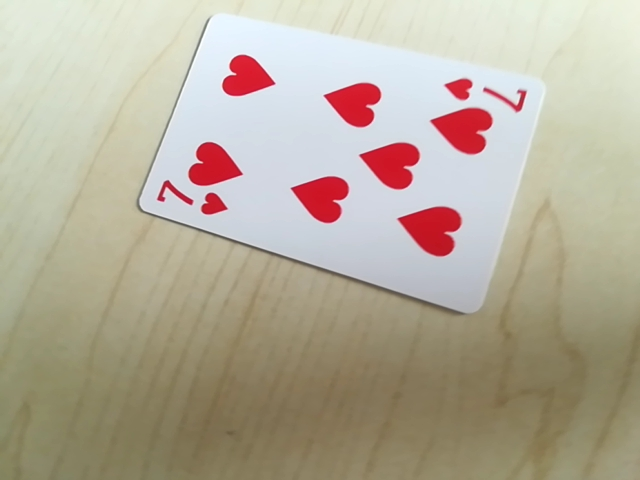hx 7: (438, 72, 532, 110), (151, 186, 231, 219)
